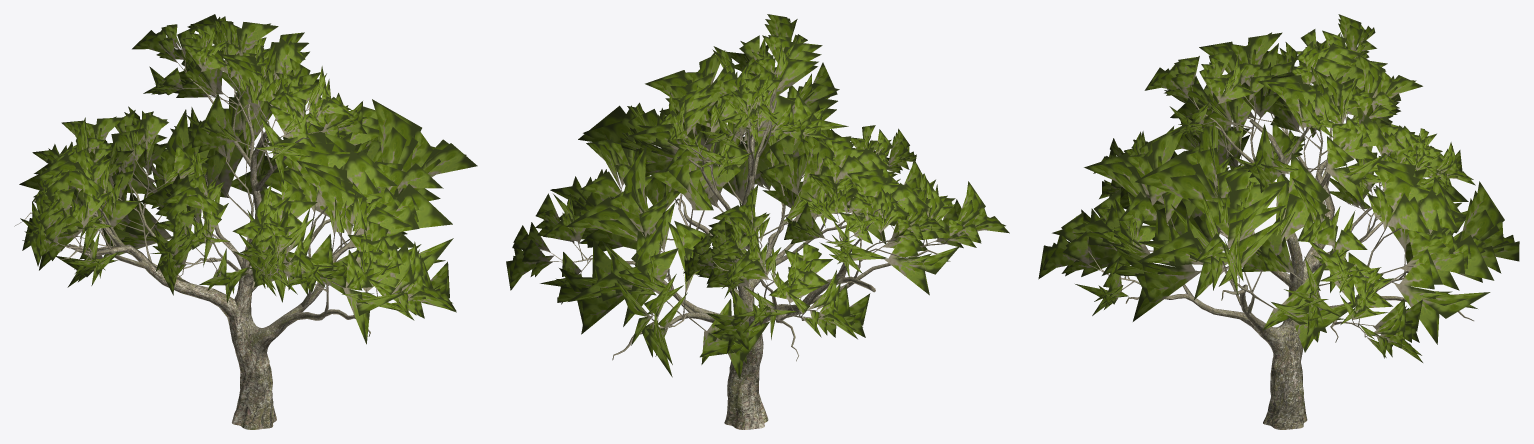
Rendered from oak.fbx.
3 views of the same model, side by side, from view 1: azimuth 30°, elevation 25°; view 2: azimuth 150°, elevation 25°; view 3: azimuth 270°, elevation 25° (orthographic). The views are drawn at different scales.
Visible parts, largest first — view 1: Tree_1, Tree_0; view 2: Tree_1, Tree_0; view 3: Tree_1, Tree_0.
Part boxes in pixels (x1,y1,x2,y2): Tree_1: (19, 14, 477, 344); Tree_0: (14, 48, 409, 429); Tree_1: (506, 14, 1009, 379); Tree_0: (541, 93, 964, 429); Tree_1: (1038, 14, 1519, 362); Tree_0: (1088, 47, 1473, 429).
Size of the model in its own units: 879 by 738 by 841.
2 materials, 2 textured.
